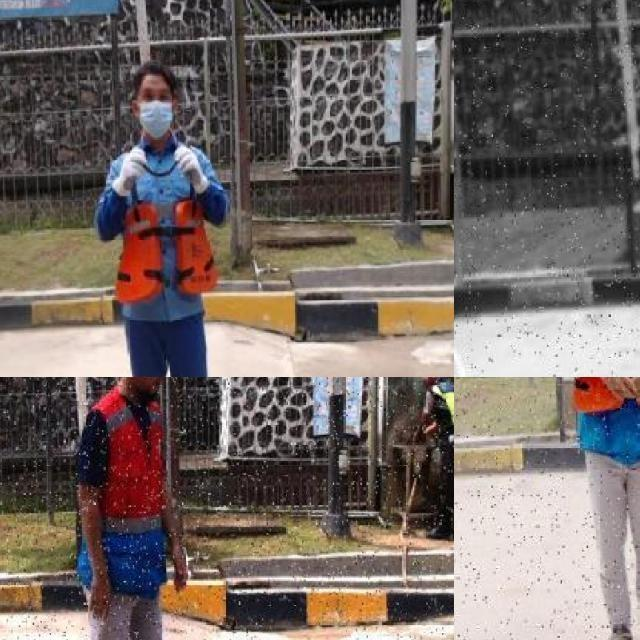apron: (106, 147, 150, 200), (172, 142, 212, 198)
